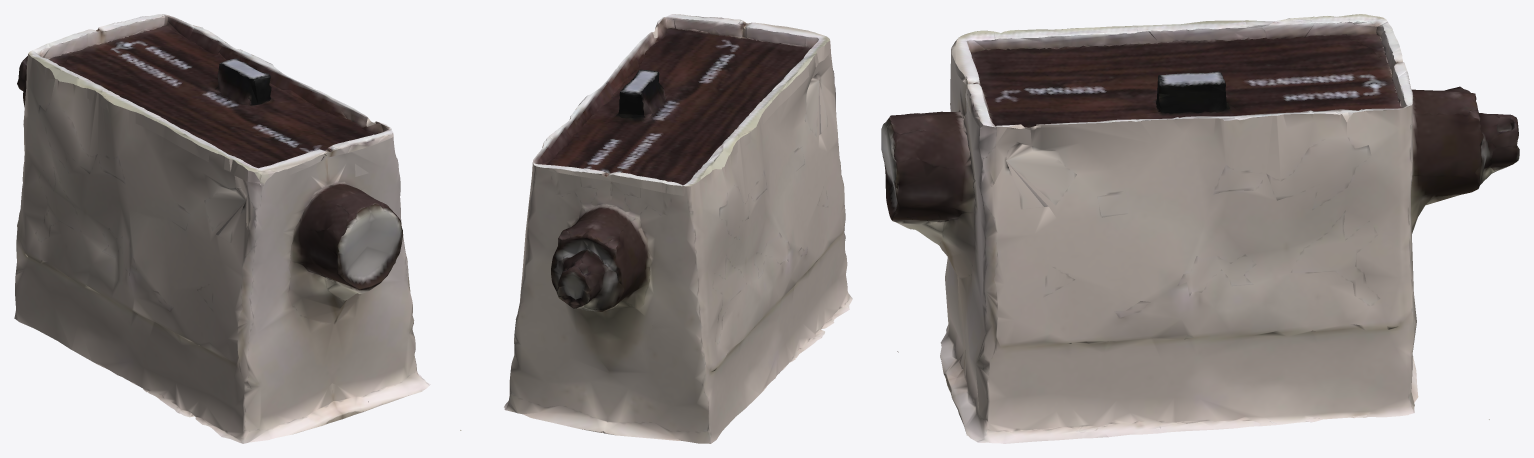
The model's file is magnavox_2.fbx.
3 renders of one model, left to right at view 1: azimuth 30°, elevation 25°; view 2: azimuth 150°, elevation 25°; view 3: azimuth 270°, elevation 25°, orthographic. The views are drawn at different scales.
Parts seen in each view (by area): view 1: magnavox_polySurface5; view 2: magnavox_polySurface5; view 3: magnavox_polySurface5.
Part boxes in pixels (box(x1,y1,x2,y2)): magnavox_polySurface5: box(14, 14, 430, 443); magnavox_polySurface5: box(460, 14, 852, 443); magnavox_polySurface5: box(881, 14, 1519, 443).
Size of the model in its own units: 1.62 by 1.7 by 3.15.
2 materials, 1 textured.
